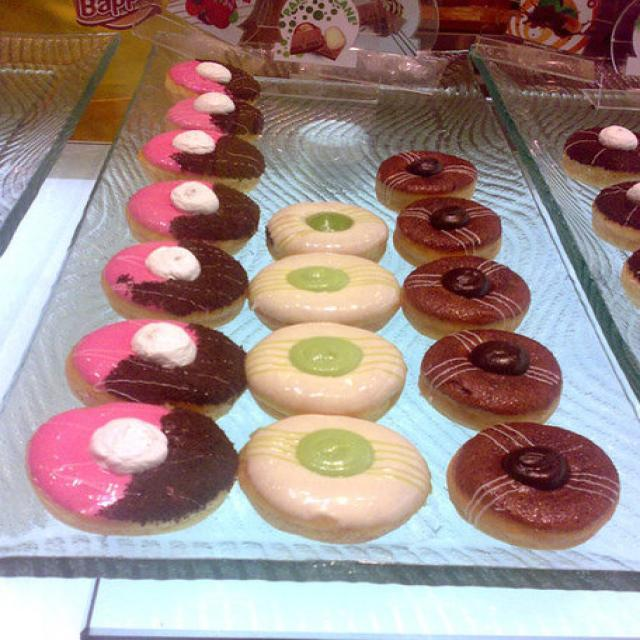Donuts: (48, 28, 638, 613)
